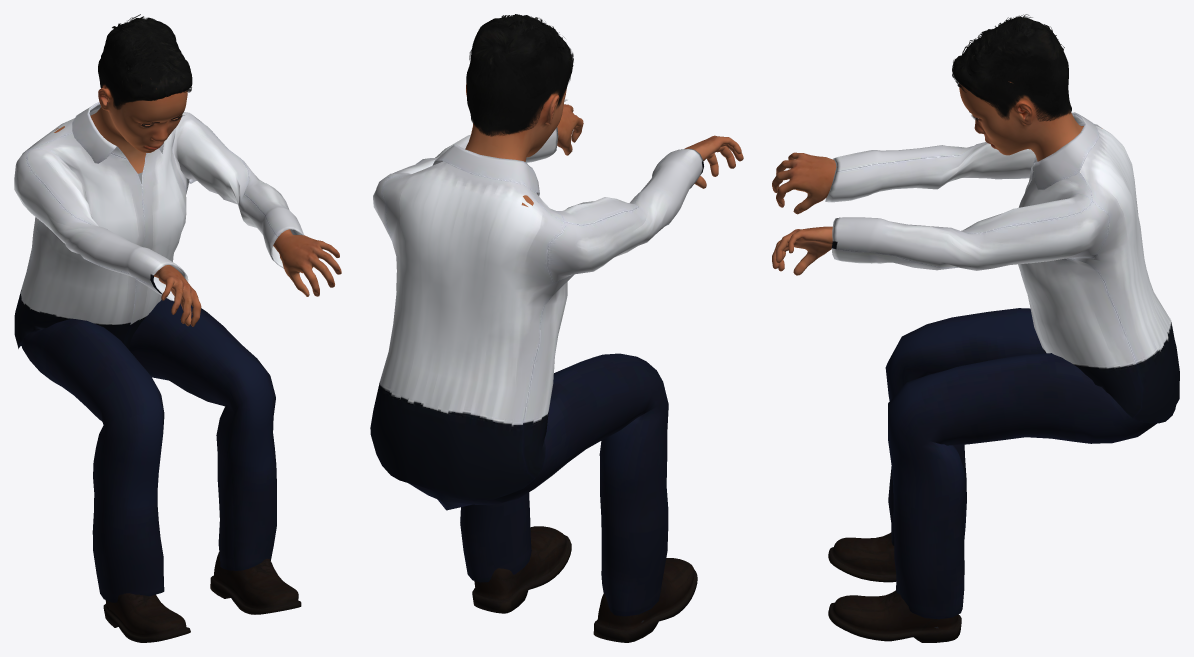
The model's file is b3_sit_build.glb.
3 renders of one model, left to right at view 1: azimuth 30°, elevation 25°; view 2: azimuth 150°, elevation 25°; view 3: azimuth 270°, elevation 25°, orthographic. The views are drawn at different scales.
Parts seen in each view (by area): view 1: b3.male_casualsuit03, b3, b3.short01, b3.shoes01; view 2: b3.male_casualsuit03, b3.short01, b3.shoes01, b3; view 3: b3.male_casualsuit03, b3, b3.short01, b3.shoes01.
Part boxes in pixels (x1,y1,x2,y2): b3.male_casualsuit03: (14,102,303,602); b3: (54,84,341,326); b3.short01: (98,14,192,109); b3.shoes01: (103,552,301,642); b3.male_casualsuit03: (370,127,703,616); b3.short01: (466,14,573,136); b3.shoes01: (472,526,697,642); b3: (465,83,743,206); b3.male_casualsuit03: (825,112,1179,619); b3: (772,81,1102,275); b3.short01: (952,14,1071,121); b3.shoes01: (828,532,961,642).
Bounding box in the file's own units: 0.4338 × 1.13 × 0.7107.
Materials: 7 (7 with a texture image).
